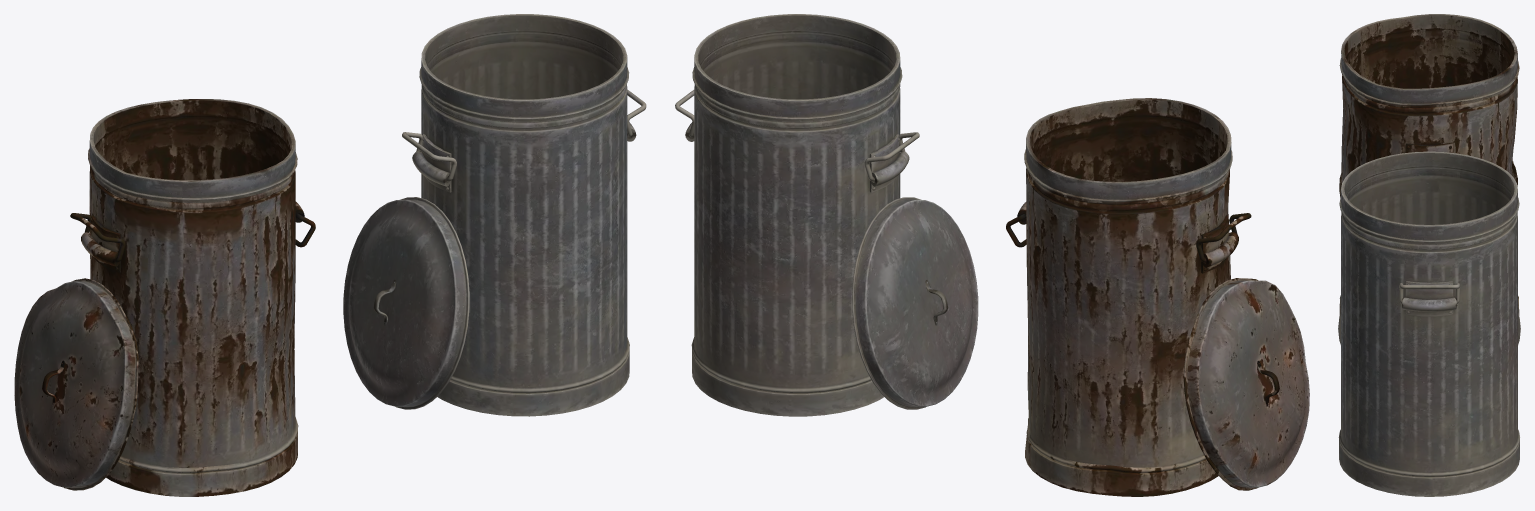
Rendered from metal_trash_can.gltf.
3 views of the same model, side by side, from view 1: azimuth 30°, elevation 25°; view 2: azimuth 150°, elevation 25°; view 3: azimuth 270°, elevation 25° (orthographic). The views are drawn at different scales.
Parts seen in each view (by area): view 1: metal_trash_can, metal_trash_can_rust, metal_trash_can_lid, metal_trash_can_rust_lid; view 2: metal_trash_can, metal_trash_can_rust, metal_trash_can_lid, metal_trash_can_rust_lid; view 3: metal_trash_can, metal_trash_can_rust, metal_trash_can_handle_right.
Part boxes in pixels (bbox=[...]): metal_trash_can: bbox=[412, 14, 636, 416]; metal_trash_can_rust: bbox=[81, 99, 304, 496]; metal_trash_can_lid: bbox=[343, 197, 469, 409]; metal_trash_can_rust_lid: bbox=[14, 278, 138, 490]; metal_trash_can: bbox=[685, 14, 909, 416]; metal_trash_can_rust: bbox=[1017, 98, 1238, 496]; metal_trash_can_lid: bbox=[852, 197, 978, 409]; metal_trash_can_rust_lid: bbox=[1183, 278, 1309, 490]; metal_trash_can: bbox=[1338, 151, 1519, 496]; metal_trash_can_rust: bbox=[1339, 14, 1519, 316]; metal_trash_can_handle_right: bbox=[1399, 283, 1459, 303].
Size of the model in its own units: 1.78 by 0.9062 by 0.5563.
Materials: 3 (3 with a texture image).
